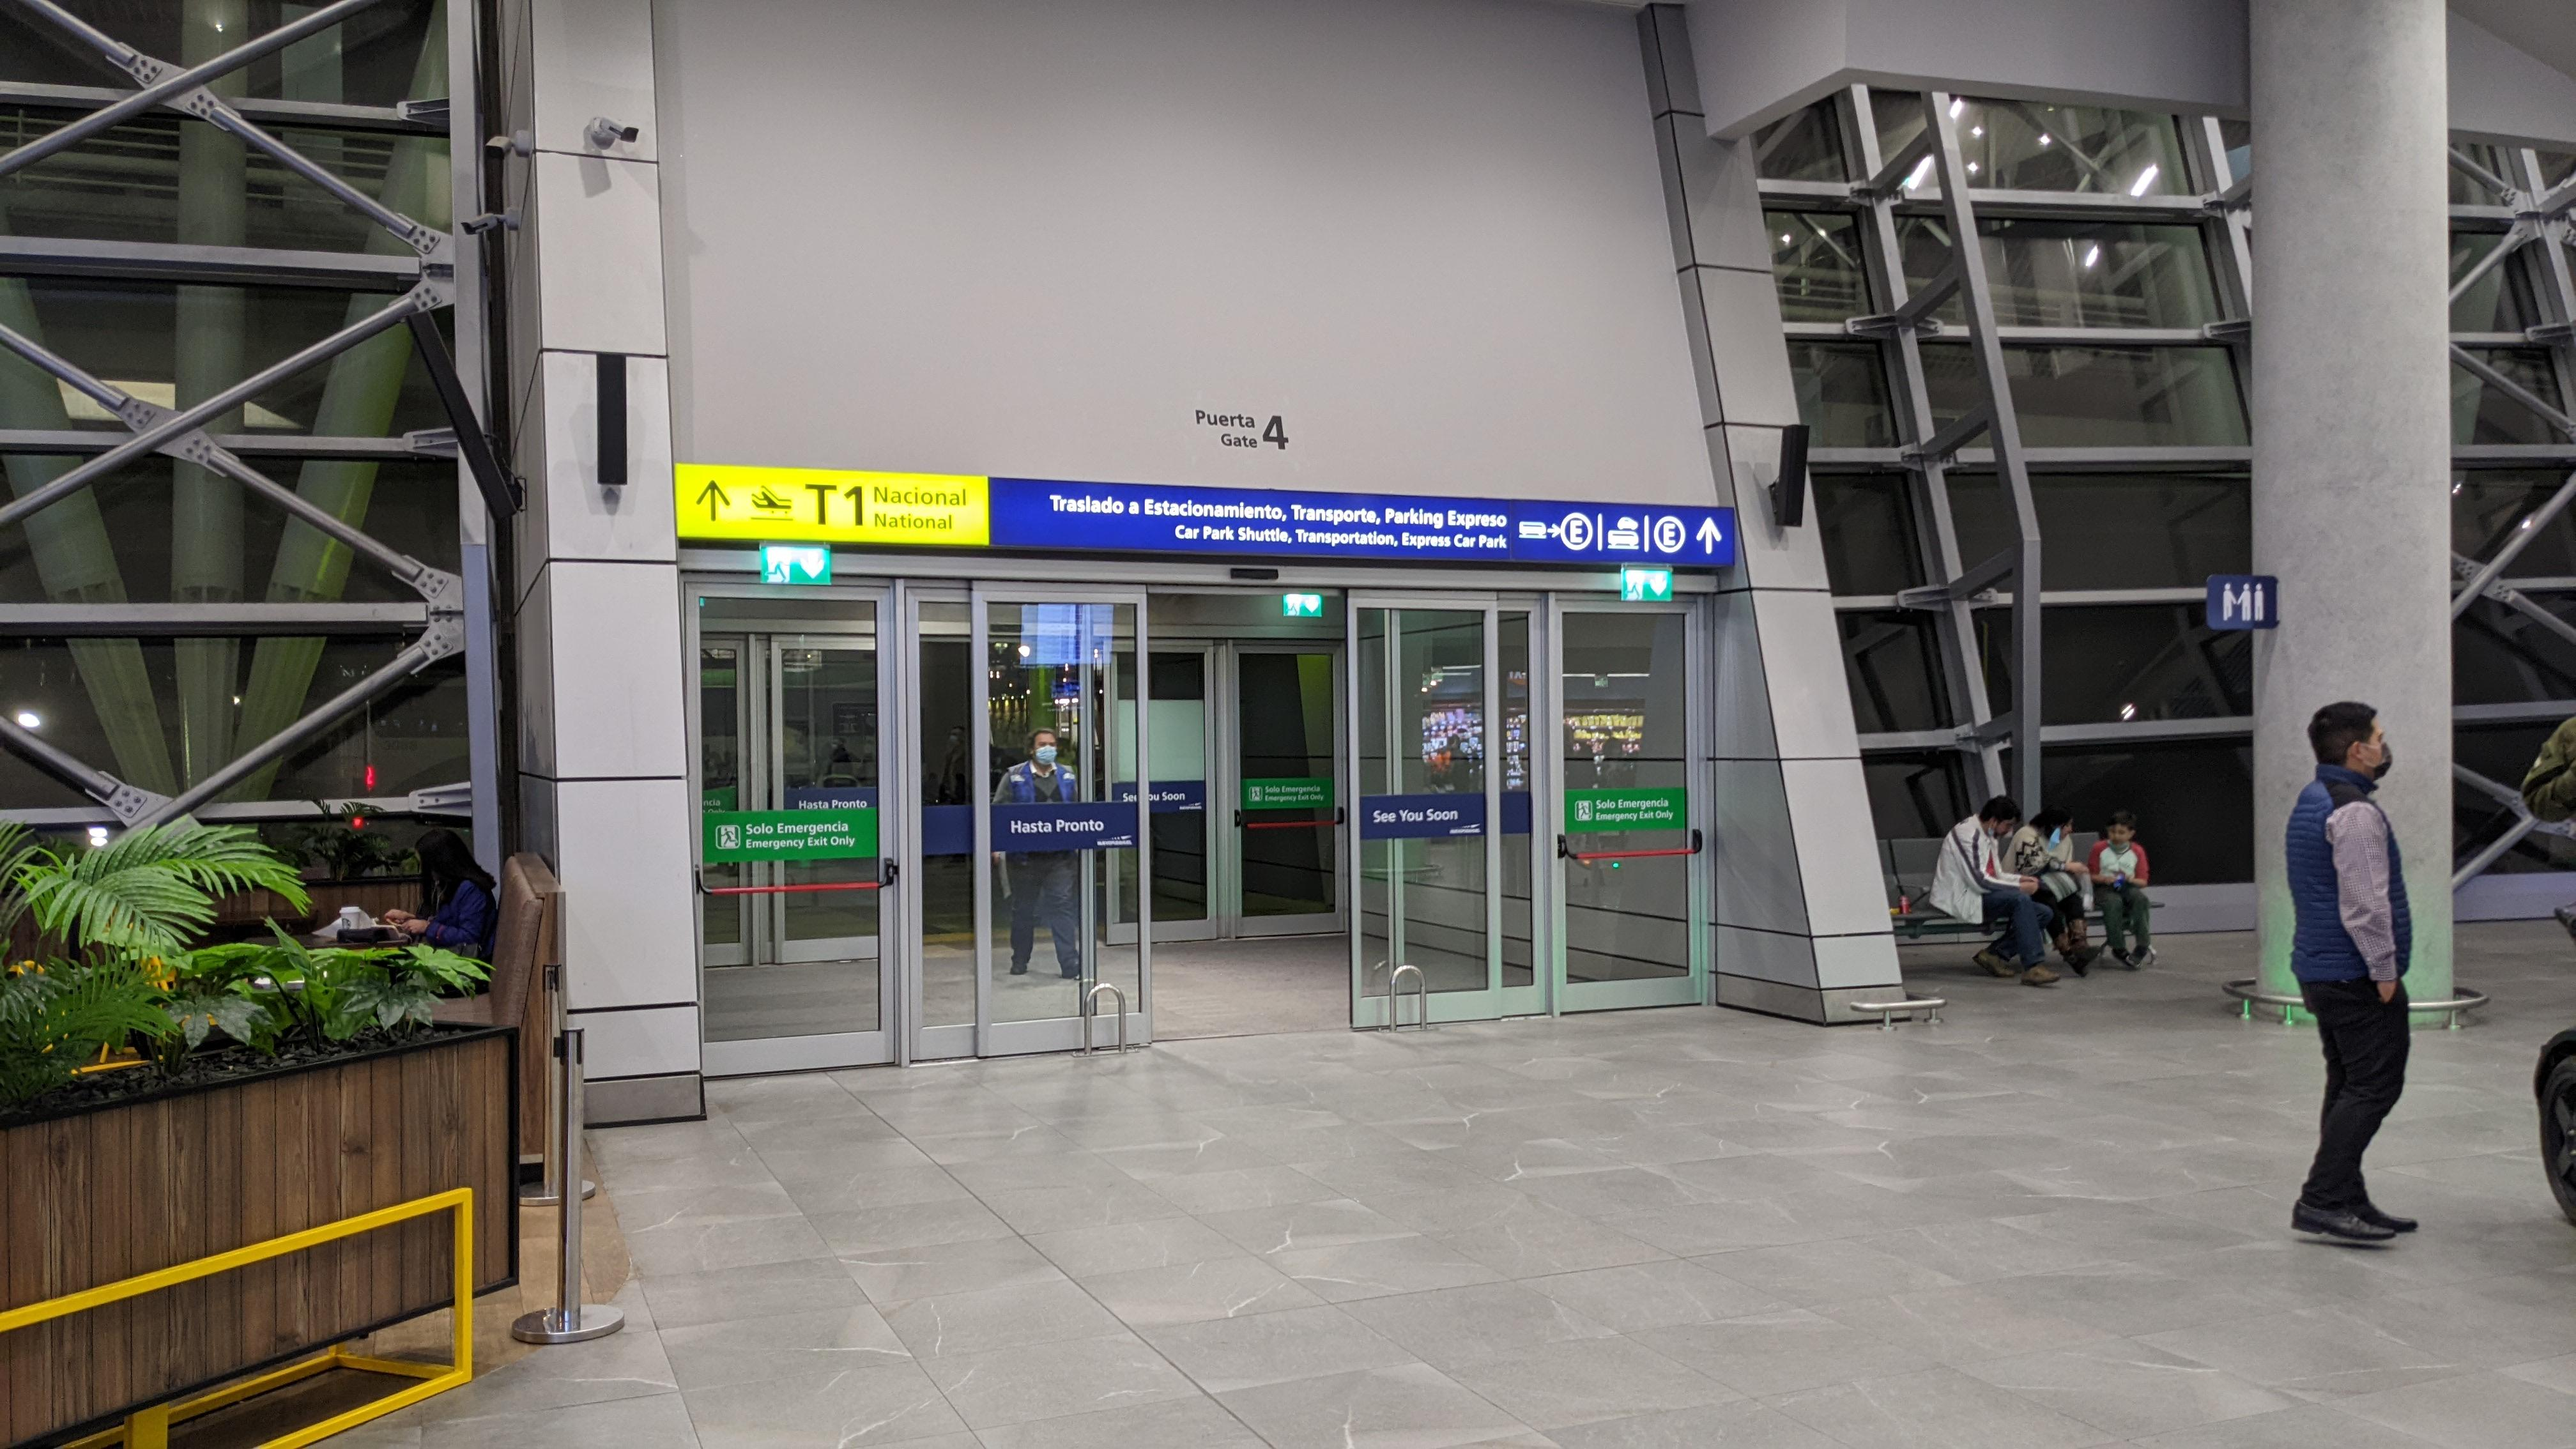airplane symbol: (748, 483, 793, 515)
emergency down arrow: (800, 554, 824, 580), (1647, 573, 1668, 598), (1304, 596, 1322, 614)
emergency exit: (1624, 573, 1645, 600), (766, 559, 789, 582), (718, 826, 740, 847), (1284, 596, 1300, 617), (1573, 803, 1594, 817), (1251, 787, 1260, 800)
thin up arrow: (695, 478, 731, 524), (1695, 517, 1723, 556)
